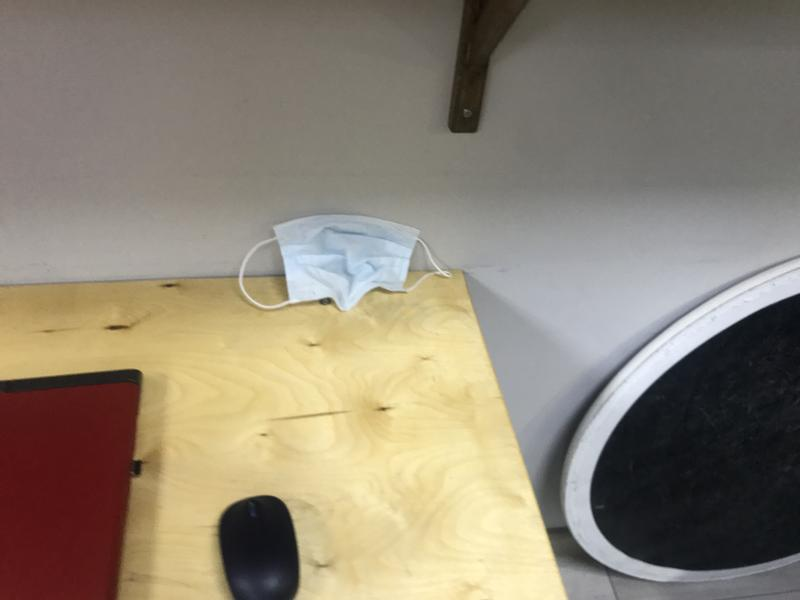medical_mask: (239, 216, 451, 311)
